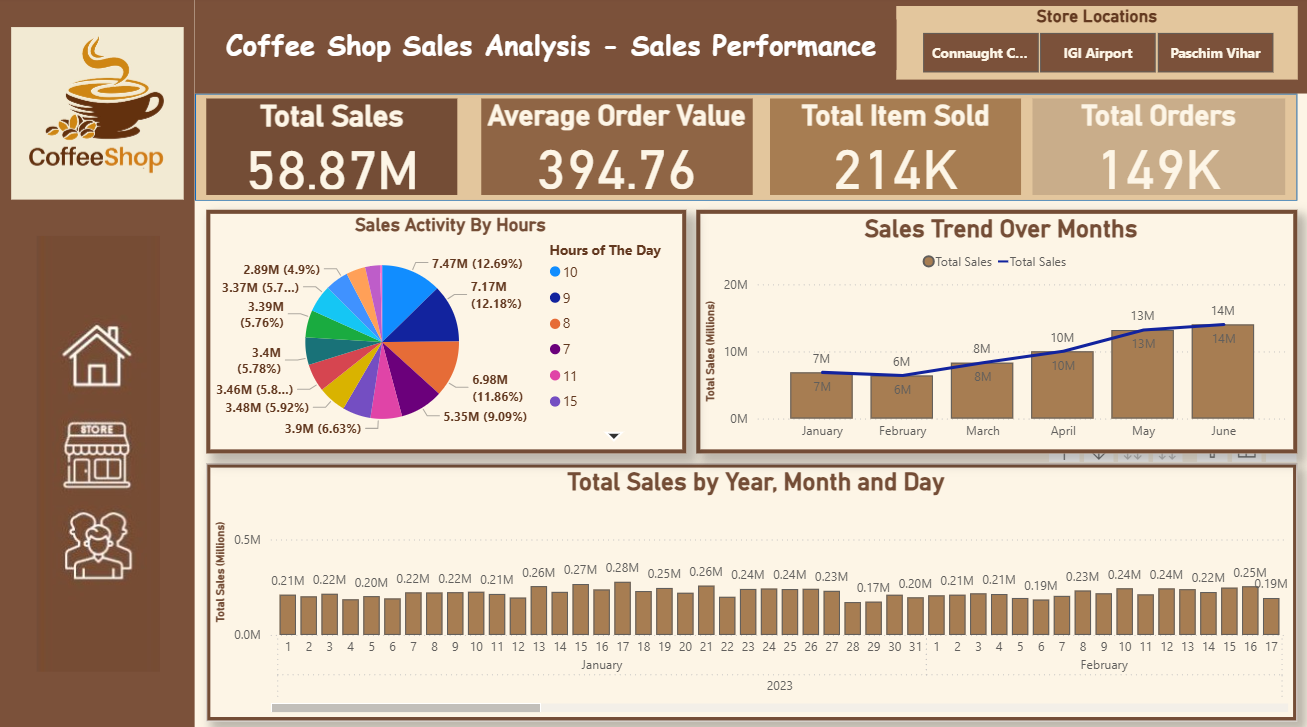

The page's visual inventory and layout, read from the dashboard file:
{"tool":"powerbi","page":{"name":"Sales Performance","canvas":[1280,720],"ordinal":0},"visuals":[{"type":"columnChart","fields":{"Y":["Measurments.Total Sales"],"Category":["Orders.transaction_date.Variation.Date Hierarchy.Year","Orders.transaction_date.Variation.Date Hierarchy.Month","Orders.transaction_date.Variation.Date Hierarchy.Day"]},"box":[201.8,457.3,1067.5,251.9],"z":0},{"type":"lineStackedColumnComboChart","title":"Sales Trend Over Months","fields":{"Category":["Orders.transaction_date.Variation.Date Hierarchy.Month"],"Y":["Measurments.Total Sales"],"Y2":["Measurments.Total Sales"]},"box":[681.1,209.1,588.2,238.5],"z":1000},{"type":"shape","box":[190.8,95.4,1078.5,105.2],"z":2000},{"type":"card","title":"Total Orders","fields":{"Values":["Measurments.Total Orders"]},"box":[1010.1,100.3,247,94.2],"z":3000},{"type":"card","title":"Average Order Value","fields":{"Values":["Measurments.Average Order Value"]},"box":[470.8,100.3,265.4,94.2],"z":4000},{"type":"card","title":"Total Item Sold","fields":{"Values":["Measurments.Total_Item_Sold"]},"box":[753.3,100.3,245.8,94.2],"z":5000},{"type":"card","title":"Total Sales","fields":{"Values":["Measurments.Total Sales"]},"box":[201.8,100.3,245.8,94.2],"z":6000},{"type":"shape","box":[190.8,0,1089.5,95.4],"z":7000},{"type":"pieChart","title":"Sales Activity By Hours","fields":{"Y":["Measurments.Total Sales"],"Category":["Orders.Hours_ofThe_Day"]},"box":[201.8,209.1,469.6,238.5],"z":8000},{"type":"slicer","title":"Store Locations","fields":{"Values":["Orders.store_location"]},"box":[876.8,9.8,392.5,72.1],"z":9000},{"type":"shape","box":[0,0,190.6,720.7],"z":10000},{"type":"image","box":[6.1,0,178.5,229.9],"z":11000},{"type":"textbox","box":[201.8,23.2,675,48.9],"z":12000},{"type":"image","box":[3.7,229.9,184.6,436.6],"z":13000}]}

Visuals, with their boxes in screenshot pixels (x1, y1, x2, y2), scaled from the page's 1280x720 canvas onto the 1307x727 screenshot:
columnChart - Measurments.Total Sales x Orders.transaction_date.Variation.Date Hierarchy.Year: box(206, 462, 1296, 716)
"Sales Trend Over Months" lineStackedColumnComboChart: box(695, 211, 1296, 452)
shape: box(195, 96, 1296, 203)
"Total Orders" card: box(1031, 101, 1284, 196)
"Average Order Value" card: box(481, 101, 752, 196)
"Total Item Sold" card: box(769, 101, 1020, 196)
"Total Sales" card: box(206, 101, 457, 196)
shape: box(195, 0, 1306, 96)
"Sales Activity By Hours" pieChart: box(206, 211, 686, 452)
"Store Locations" slicer: box(895, 10, 1296, 83)
shape: box(0, 0, 195, 726)
image: box(6, 0, 188, 232)
textbox: box(206, 23, 895, 73)
image: box(4, 232, 192, 673)
